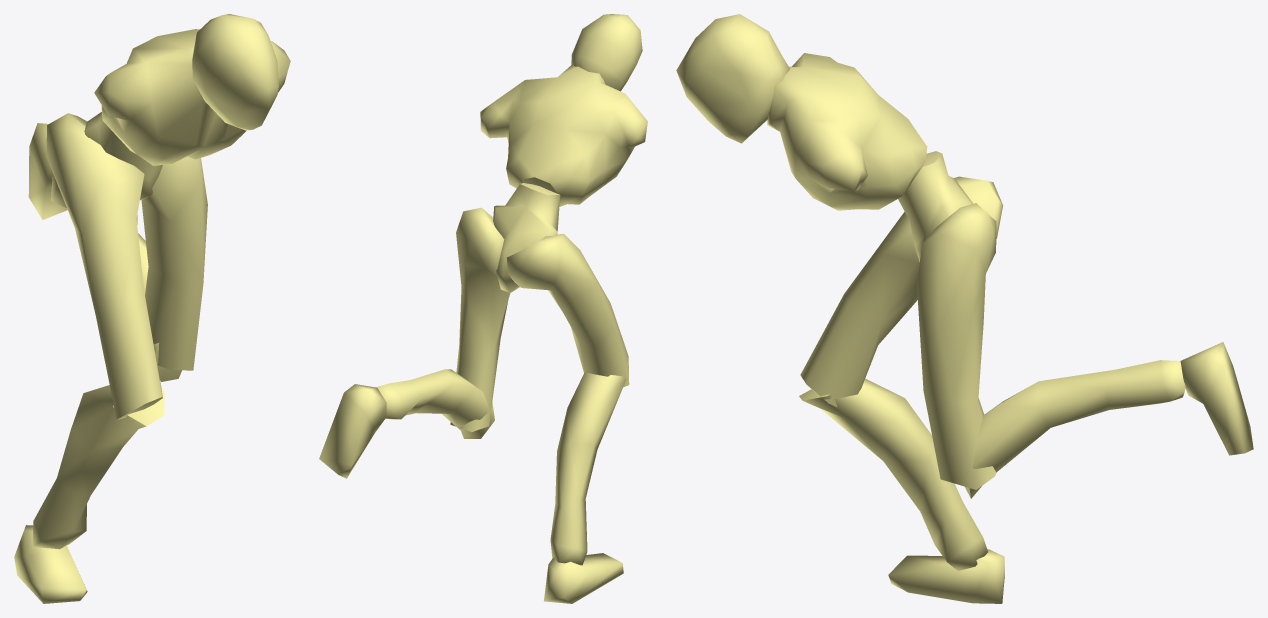
The model's file is filth6.obj.
3 renders of one model, left to right at view 1: azimuth 30°, elevation 25°; view 2: azimuth 150°, elevation 25°; view 3: azimuth 270°, elevation 25°, orthographic. The views are drawn at different scales.
Visible parts, largest first — view 1: Melee_Husk; view 2: Melee_Husk; view 3: Melee_Husk.
Part boxes in pixels (<box>): Melee_Husk: <box>14,14,290,603</box>; Melee_Husk: <box>319,14,647,603</box>; Melee_Husk: <box>676,14,1253,603</box>.
Size of the model in its own units: 22.16 by 63.31 by 54.38.
